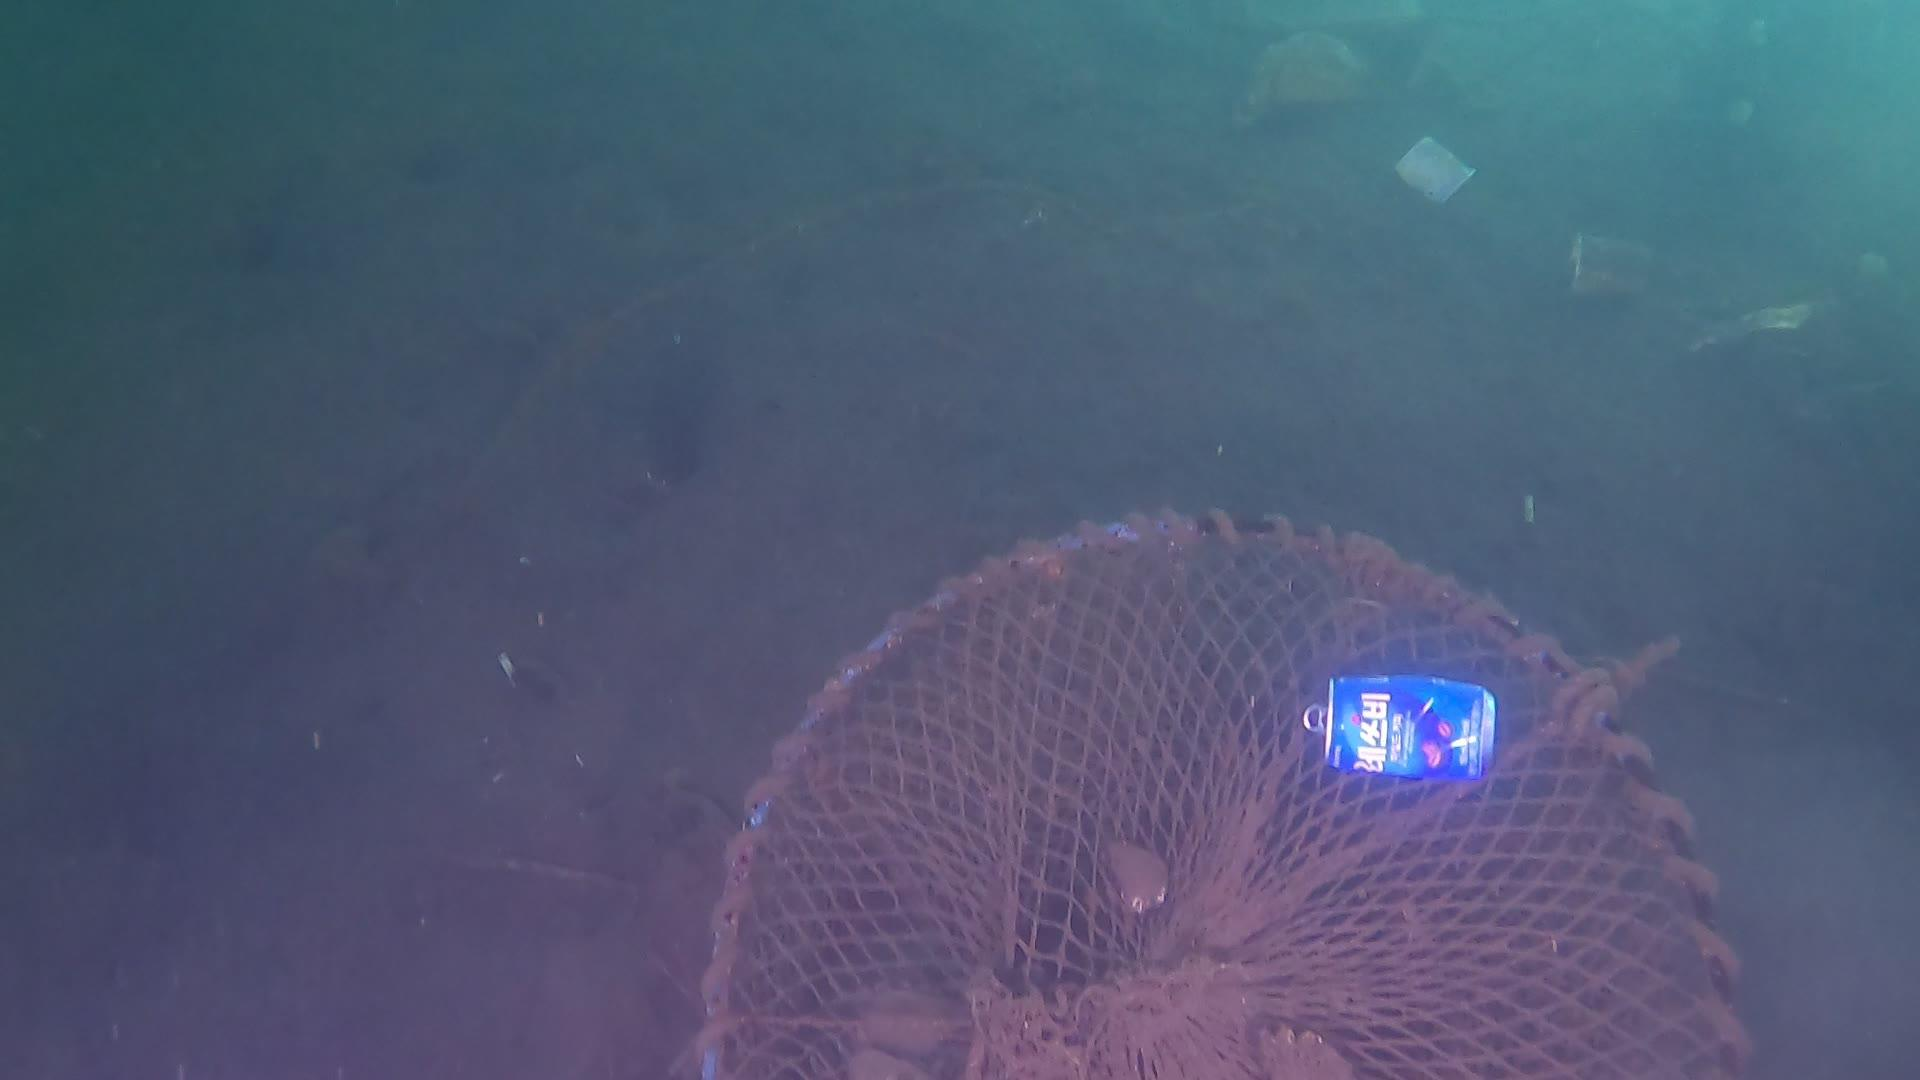circular fish trap: (679, 485, 1759, 1080)
